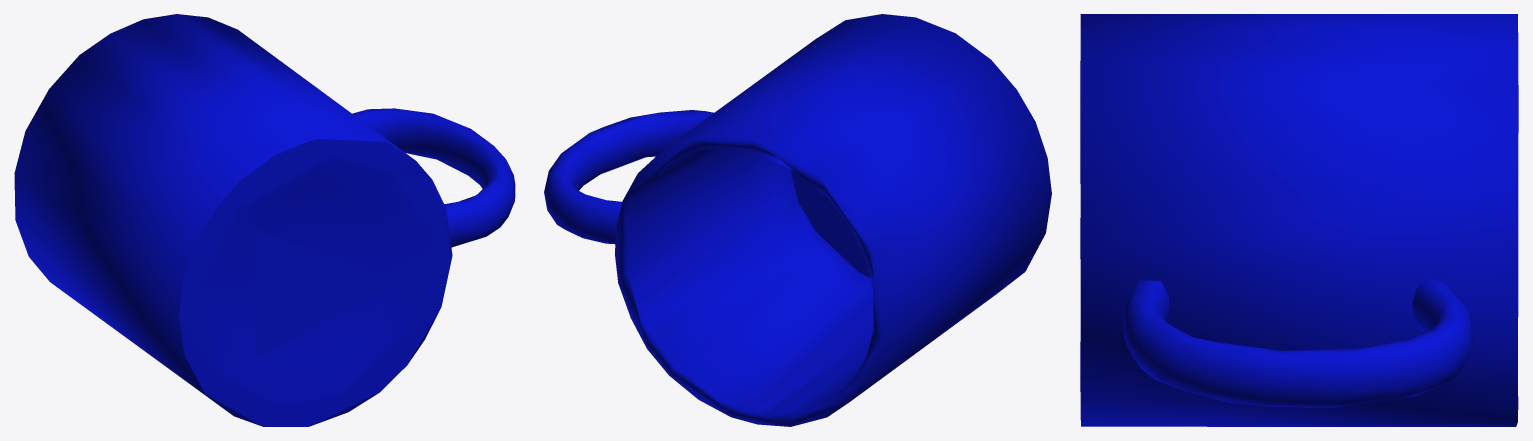
The model's file is VIS_Obj_1_Cup.dae.
The picture shows the model from 3 angles, left to right: view 1: azimuth 30°, elevation 25°; view 2: azimuth 150°, elevation 25°; view 3: azimuth 270°, elevation 25°; orthographic projection. The views are drawn at different scales.
Visible parts, largest first — view 1: VIS_Obj_1_Cup; view 2: VIS_Obj_1_Cup; view 3: VIS_Obj_1_Cup.
Boxes of the visible parts, x1,y1,x2,y2 form: VIS_Obj_1_Cup: [14, 14, 515, 426]; VIS_Obj_1_Cup: [544, 14, 1051, 426]; VIS_Obj_1_Cup: [1080, 14, 1518, 426].
Bounding box in the file's own units: 2.85 × 2.06 × 1.96.
